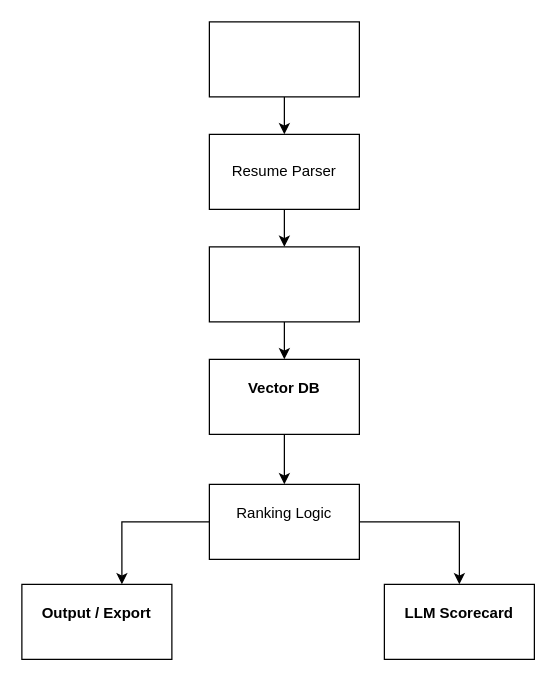
Some shapes in this 556 by 681 pixel diagram are drawn without their labels. The shapes that lost their labels are listed below. From the top down, each one's box as (x1, y1, x2, y2) in pixels, then its label:
(208, 21, 359, 97): User UI
(208, 246, 359, 322): Embedding Service
